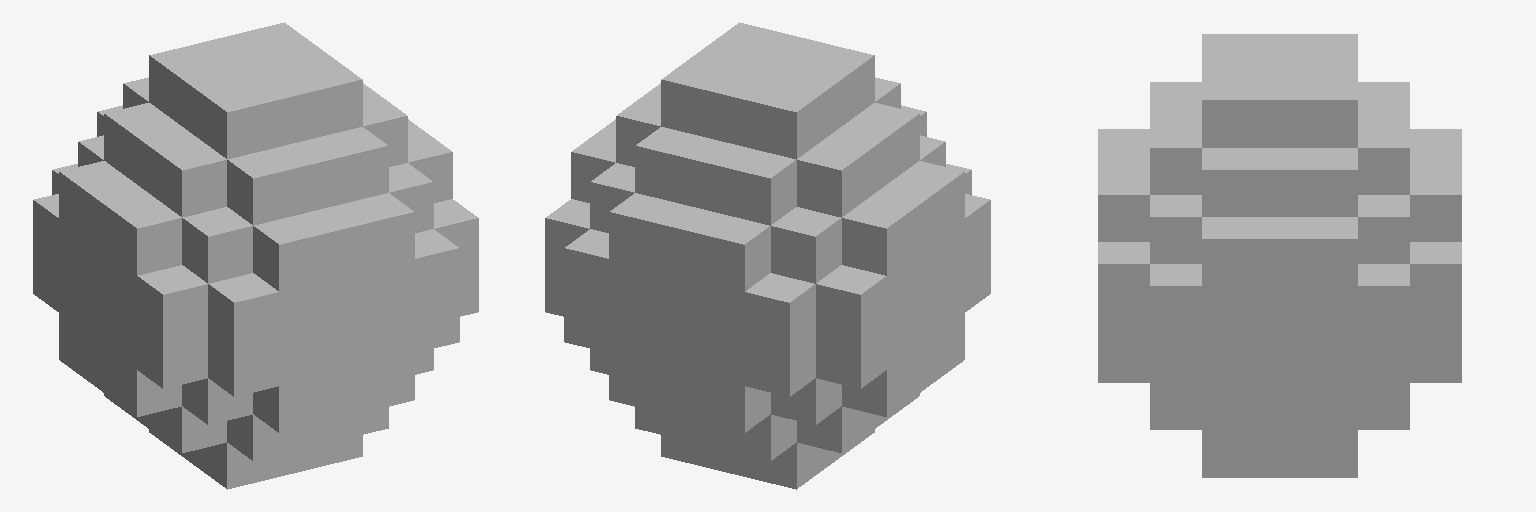
The model's file is Player.obj.
3 views of the same model, side by side, from view 1: azimuth 30°, elevation 25°; view 2: azimuth 150°, elevation 25°; view 3: azimuth 270°, elevation 25° (orthographic).
Size of the model in its own units: 7 by 8 by 7.